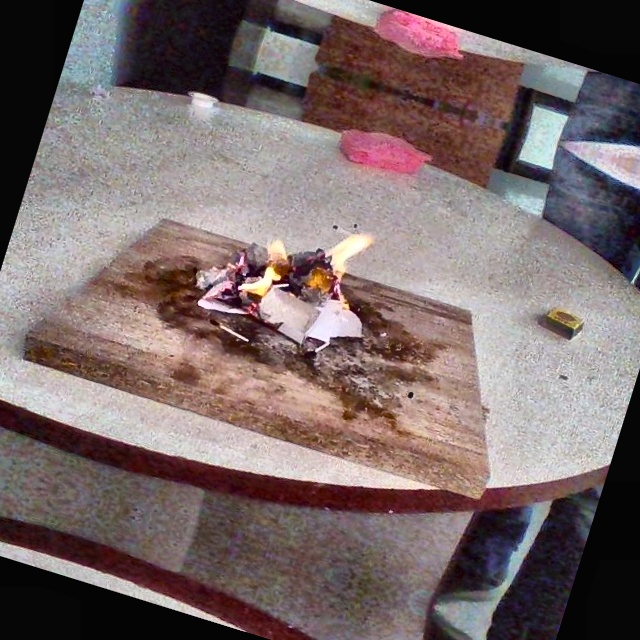fire: (216, 187, 404, 380)
